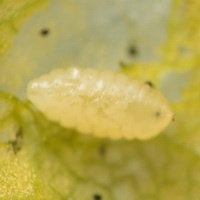insect: (27, 68, 172, 138)
